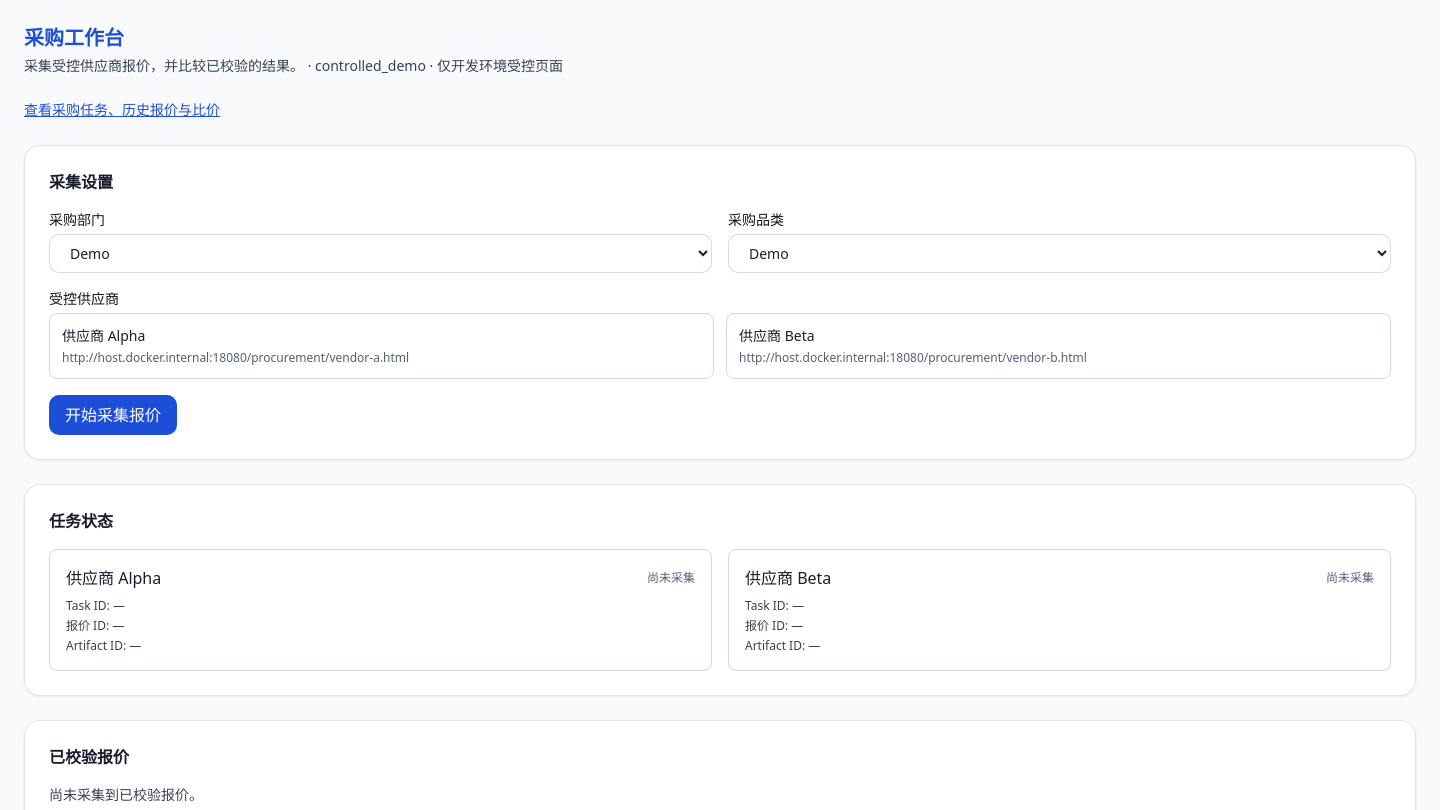
Test: keeps successful quotes and reuses the failed supplier idempotency key
What coordinates should you click on to do the following:
click the button "开始采集报价"
I would click on:
 (113, 415)
Its box is [49,395,177,435].
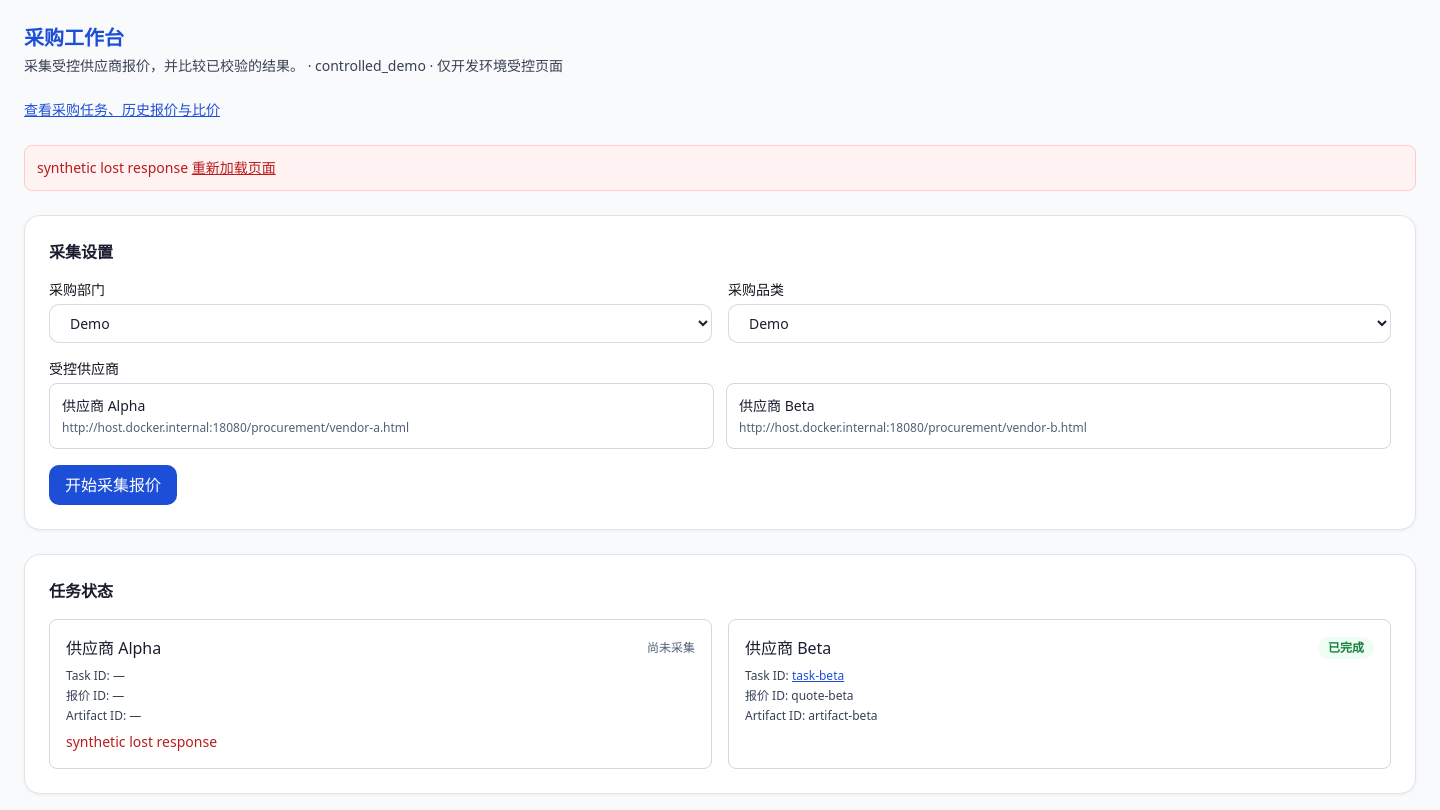
Now the text "Artifact ID: artifact-beta" is shown, box [745,707,878,724]
What coordinates should you click on to do the following:
click the button "开始采集报价"
I would click on:
 (113, 485)
Its box is [49,465,177,505].
(page scrolled)
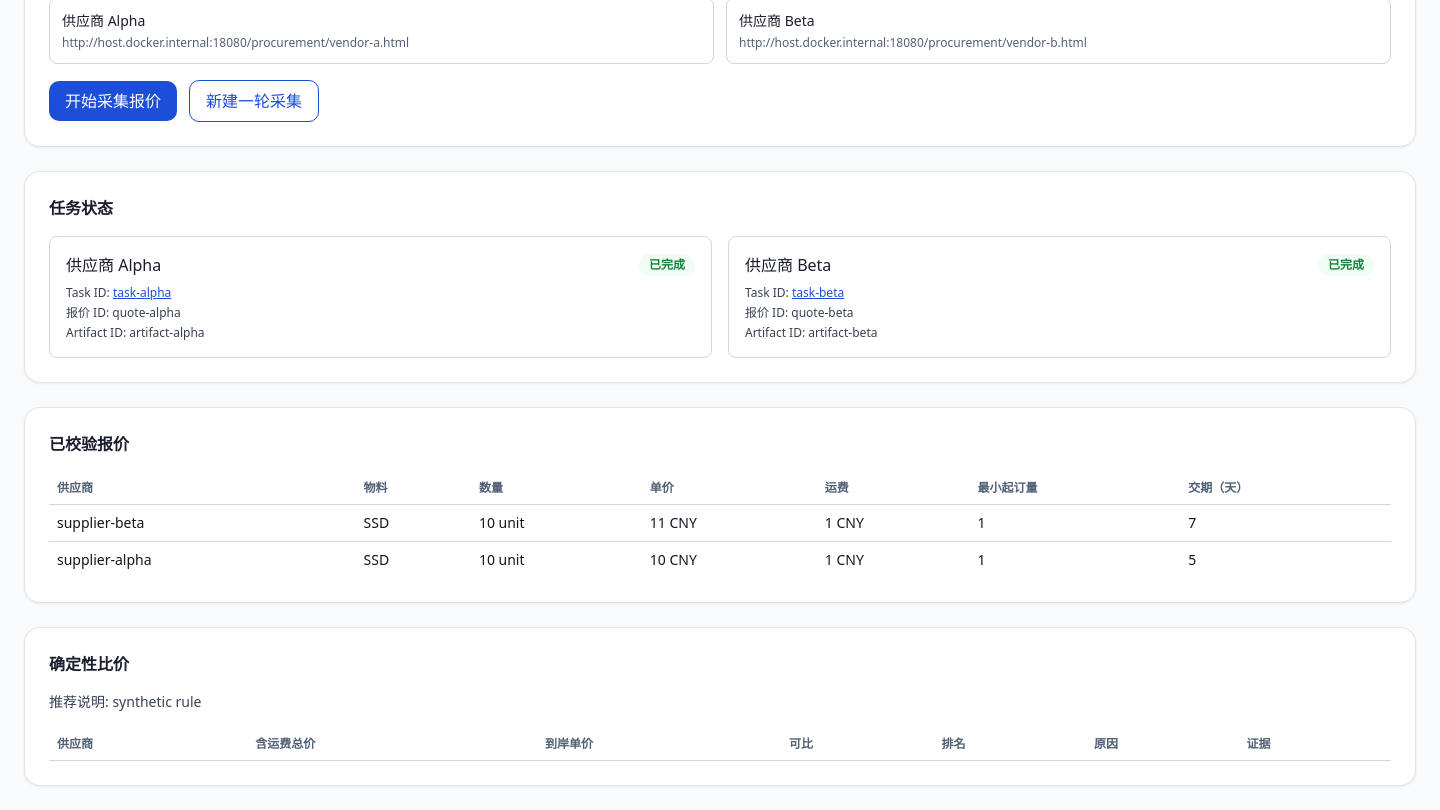
Now the text "推荐说明: synthetic rule" is shown, box [49,692,202,711]
